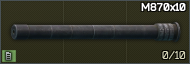M870 12ga 10-shell magazine: (0, 0, 190, 64)
